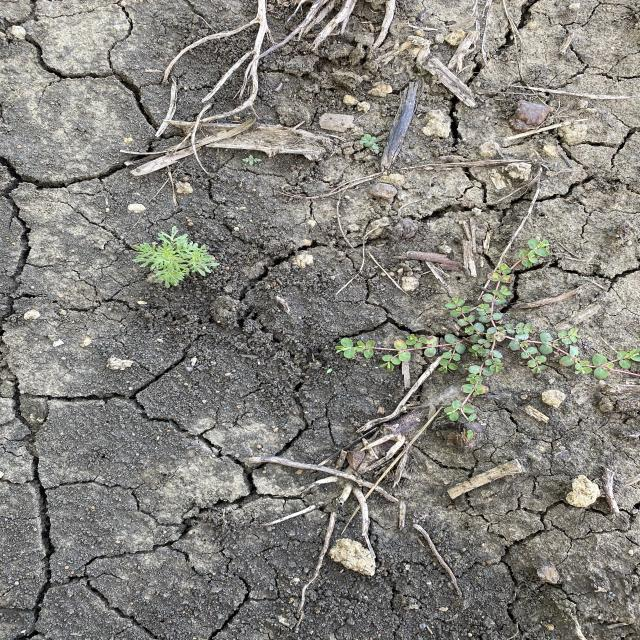Ragweed: (132, 225, 224, 290)
SpottedSpurge: (334, 234, 638, 423), (359, 132, 387, 156)
